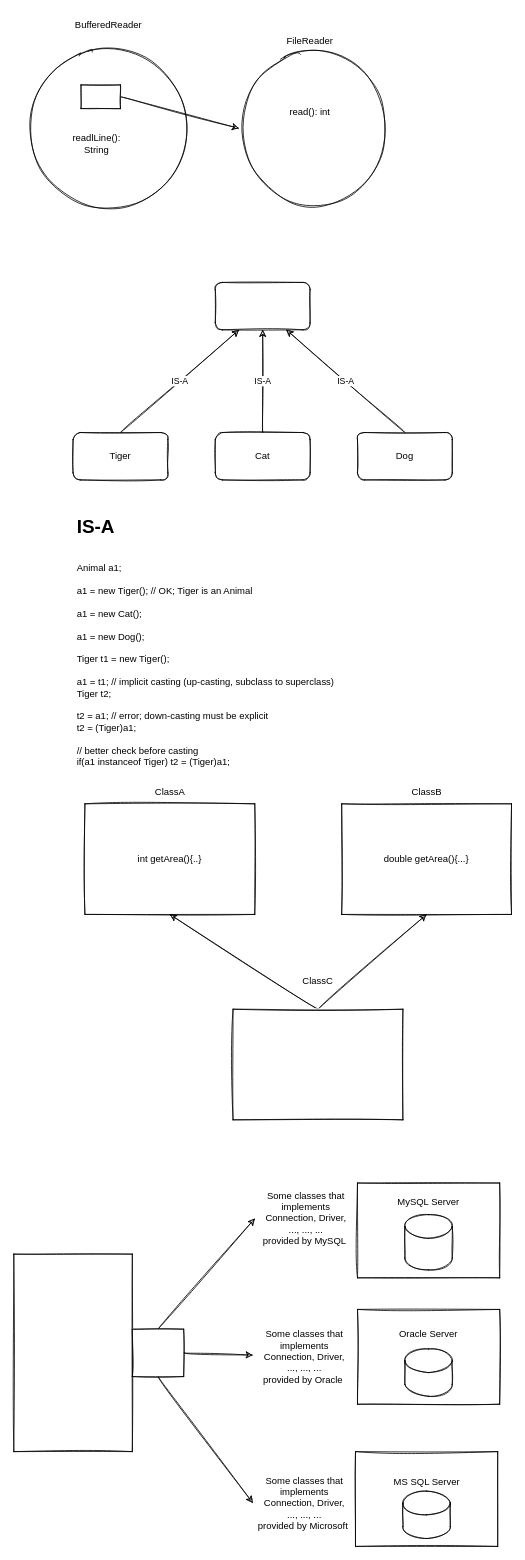
Image size: 525x1560. Some labels were removed from this diagram. The shapes that lost their labels are listed below. From the top down, each one's box as (x1, y1, x2, y2) in pixels, then its label:
(80, 84, 120, 109): target
(214, 282, 310, 330): Animal abstract void talk();
(232, 1008, 403, 1120): ClassA-->getArea() ClassB-->getArea()
(13, 1253, 132, 1452): My Java application JDBC API Connection conn;
(132, 1328, 184, 1377): Driver Manager
